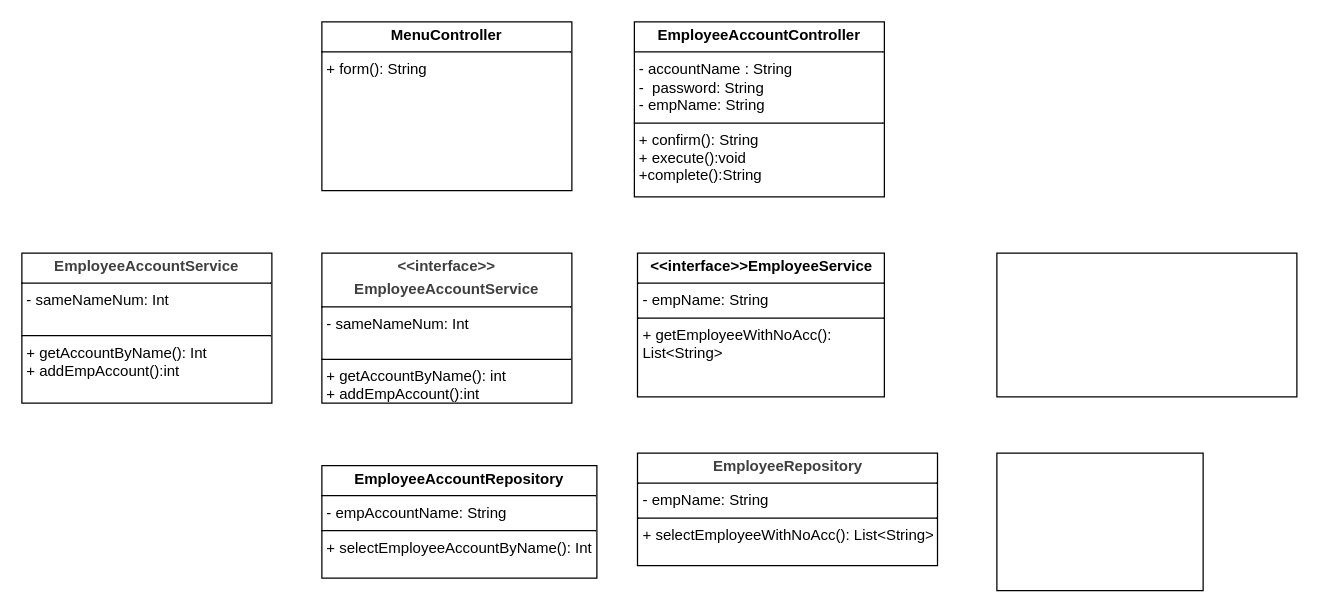
The diagram is 1319 pixels wide and 613 high, and some of its shapes have lost their labels. The shapes that lost their labels are listed below. From the top down, each one's centre as x and y in pixels, then its label:
At (x=1146, y=324): "EmployeeServiceImpl - empName: String + getEmployeeWithNoAcc(): List<String>".
At (x=1099, y=521): "Account -empName: String - accountName: String - password:String".
